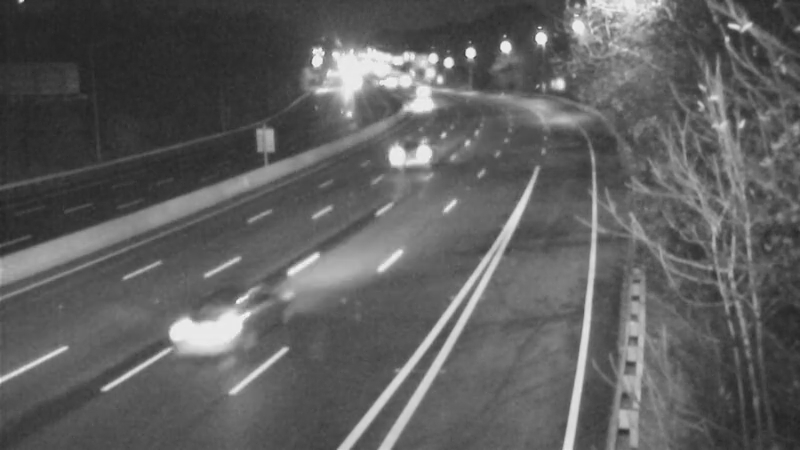vehicle: (143, 273, 253, 383), (388, 112, 468, 192), (404, 75, 454, 125)
